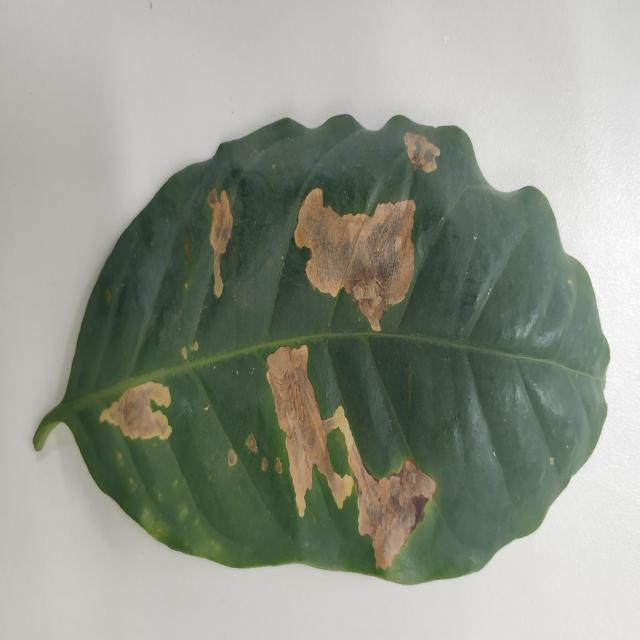Plaga-Minador: (31, 115, 612, 588)
